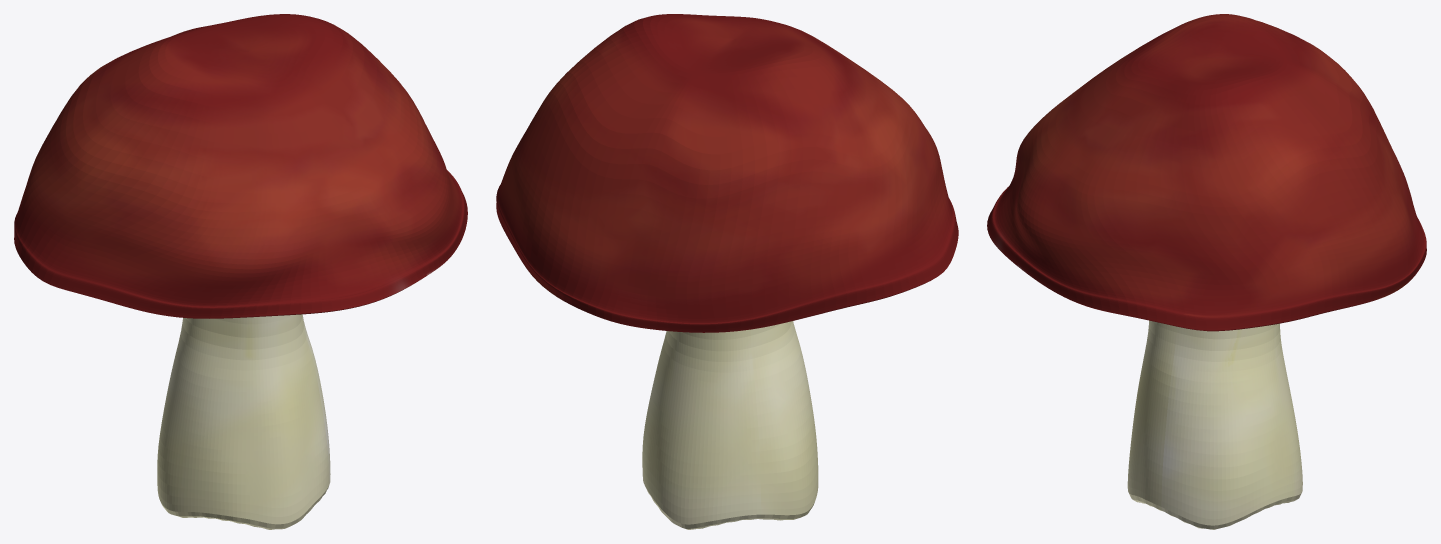
The model's file is WhiteMashroom.fbx.
3 views of the same model, side by side, from view 1: azimuth 30°, elevation 25°; view 2: azimuth 150°, elevation 25°; view 3: azimuth 270°, elevation 25° (orthographic). The views are drawn at different scales.
Visible parts, largest first — view 1: Cylinder; view 2: Cylinder; view 3: Cylinder.
Boxes of the visible parts, x1,y1,x2,y2 form: Cylinder: (14,14,467,529); Cylinder: (496,14,958,529); Cylinder: (987,14,1426,529).
Bounding box in the file's own units: 1735 × 1847 × 1641.
Materials: 1 (1 with a texture image).
